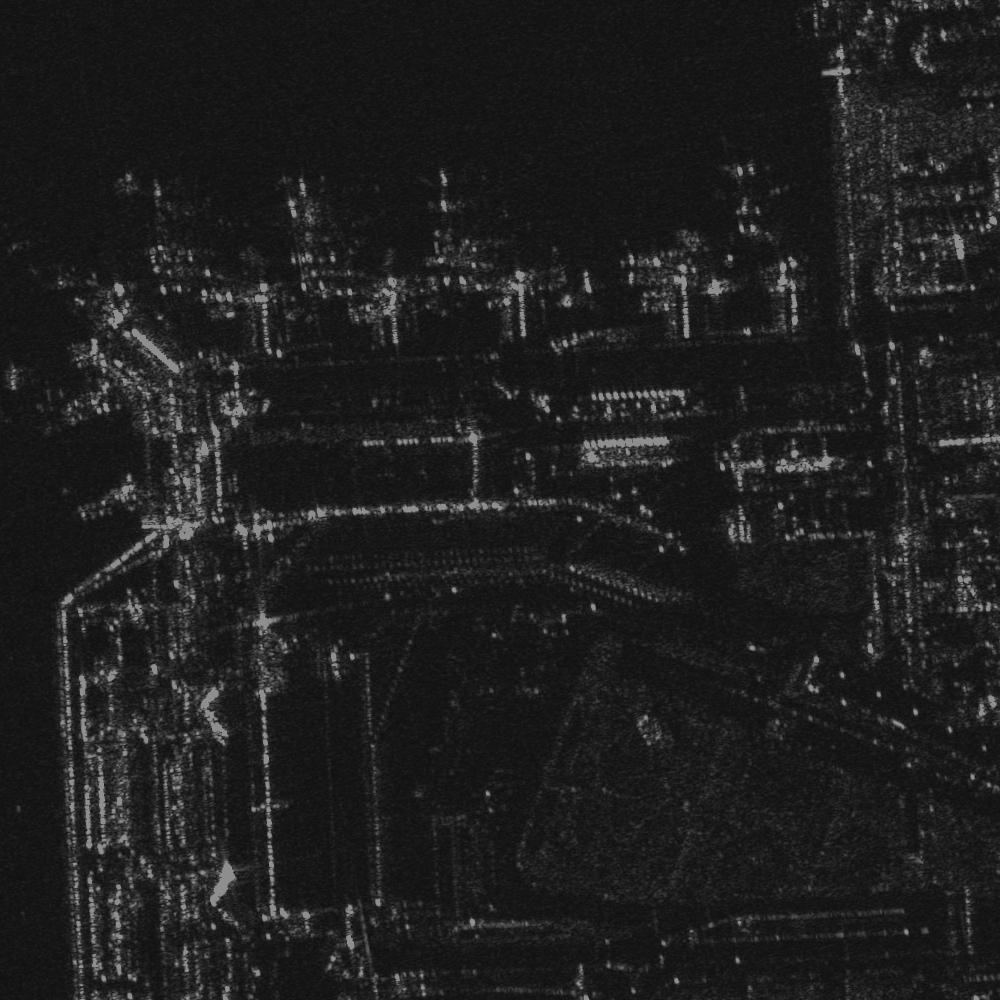A220: (705, 159, 797, 244), (272, 167, 338, 247)
Boeing787: (412, 164, 479, 237)
other: (124, 168, 190, 238)
